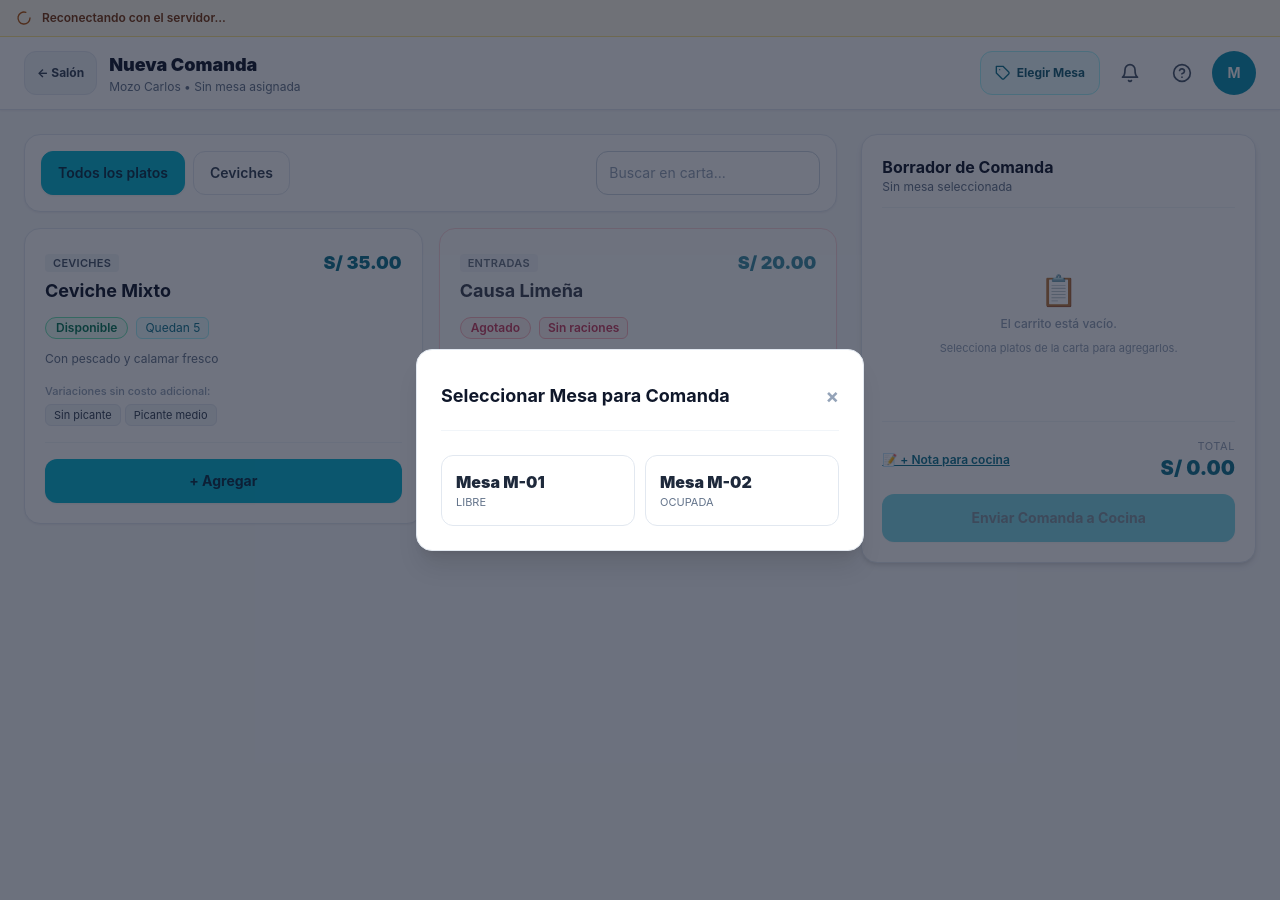
Test: Waiter Orders Flow (Spec 003 UI) › NewOrderPage: arms draft with variations, displays exact total S/ 35.00, and sends order idempotently
Earlier steps of the test are not shown.
Click the button "Mesa M-01 LIBRE" at (538, 491), box x1=441 y1=455 x2=635 y2=526
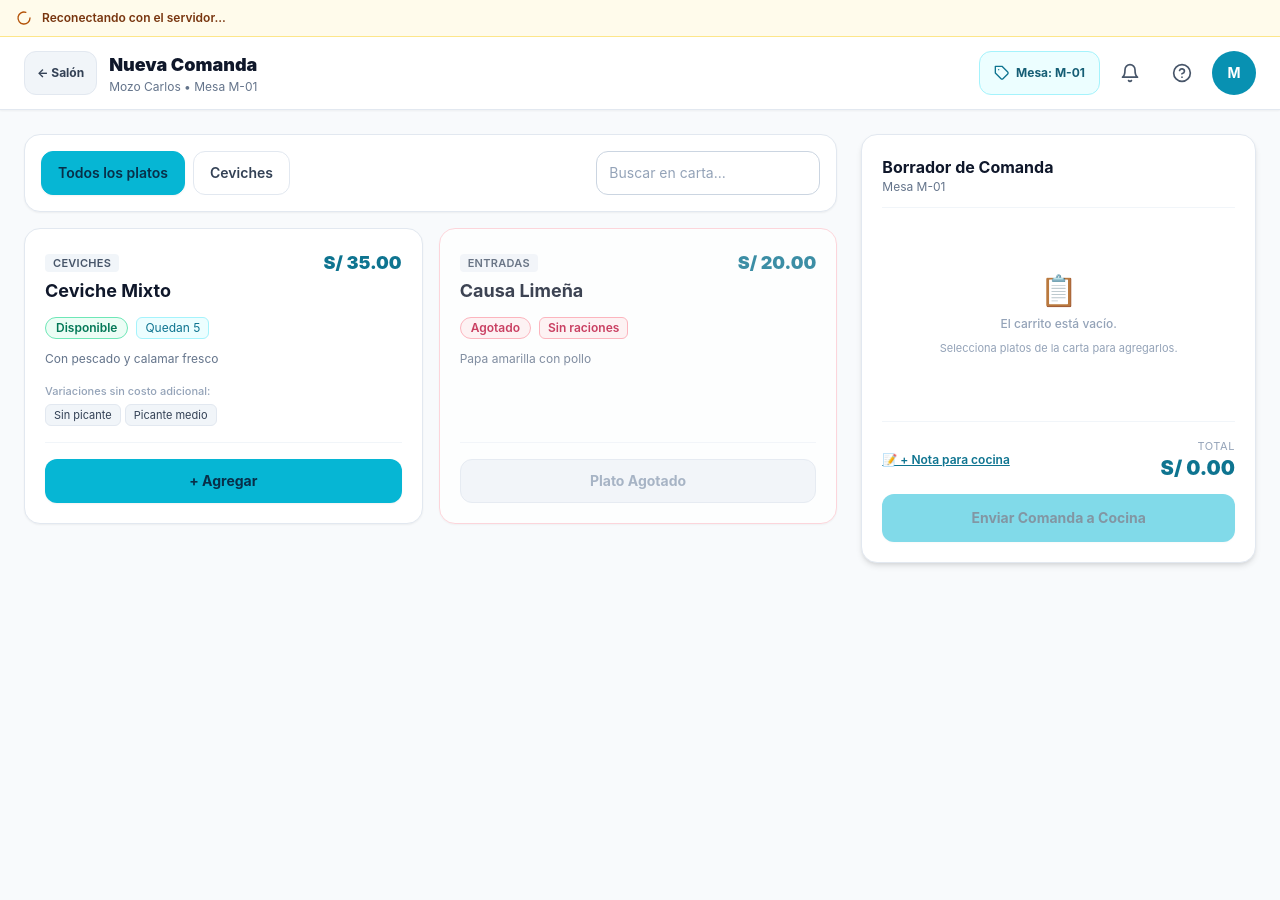
Expected: the text "Mesa: M-01" is shown, x1=1016 y1=65 x2=1085 y2=81
Click "+ Agregar" on Ceviche Mixto to open variation sheet
Click the button "+ Agregar" at (223, 481), box x1=45 y1=459 x2=402 y2=503
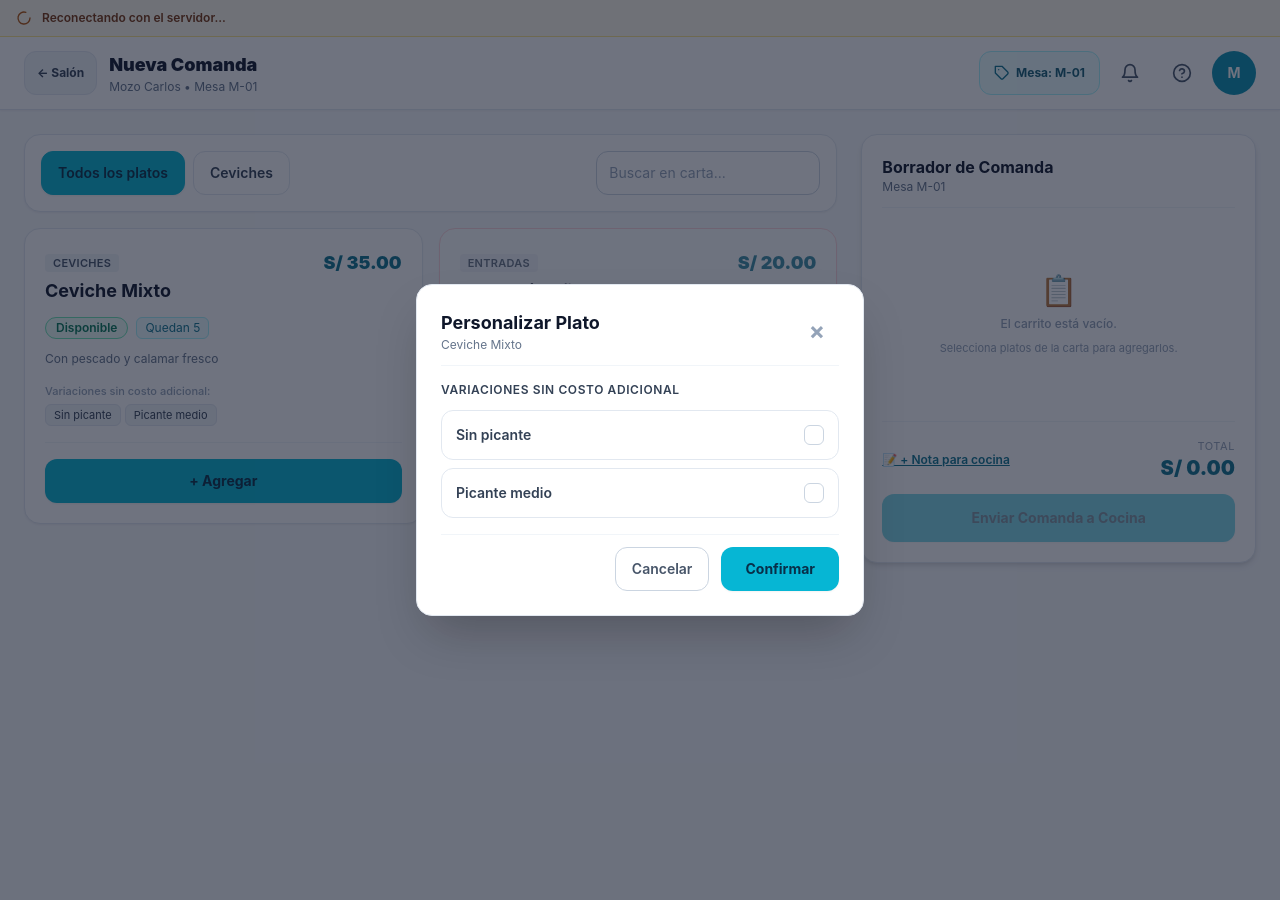
Expected: the heading "Personalizar Plato" is shown, x1=441 y1=309 x2=600 y2=337
Click variation button "Sin picante"
Click the button "Sin picante" at (494, 434), box x1=441 y1=410 x2=839 y2=460
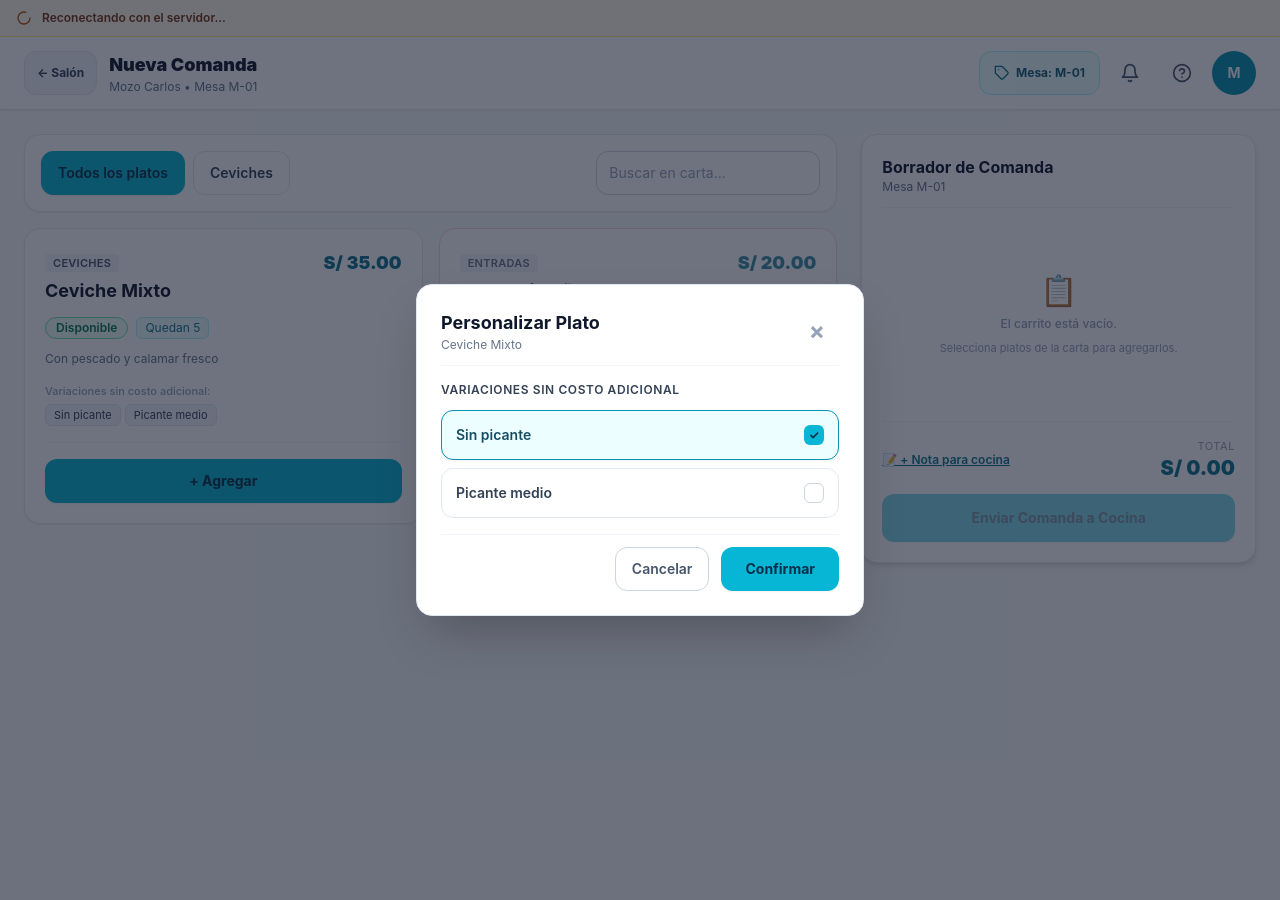
Confirm variation
Click the button "Confirmar" at (780, 569), box x1=721 y1=547 x2=839 y2=591
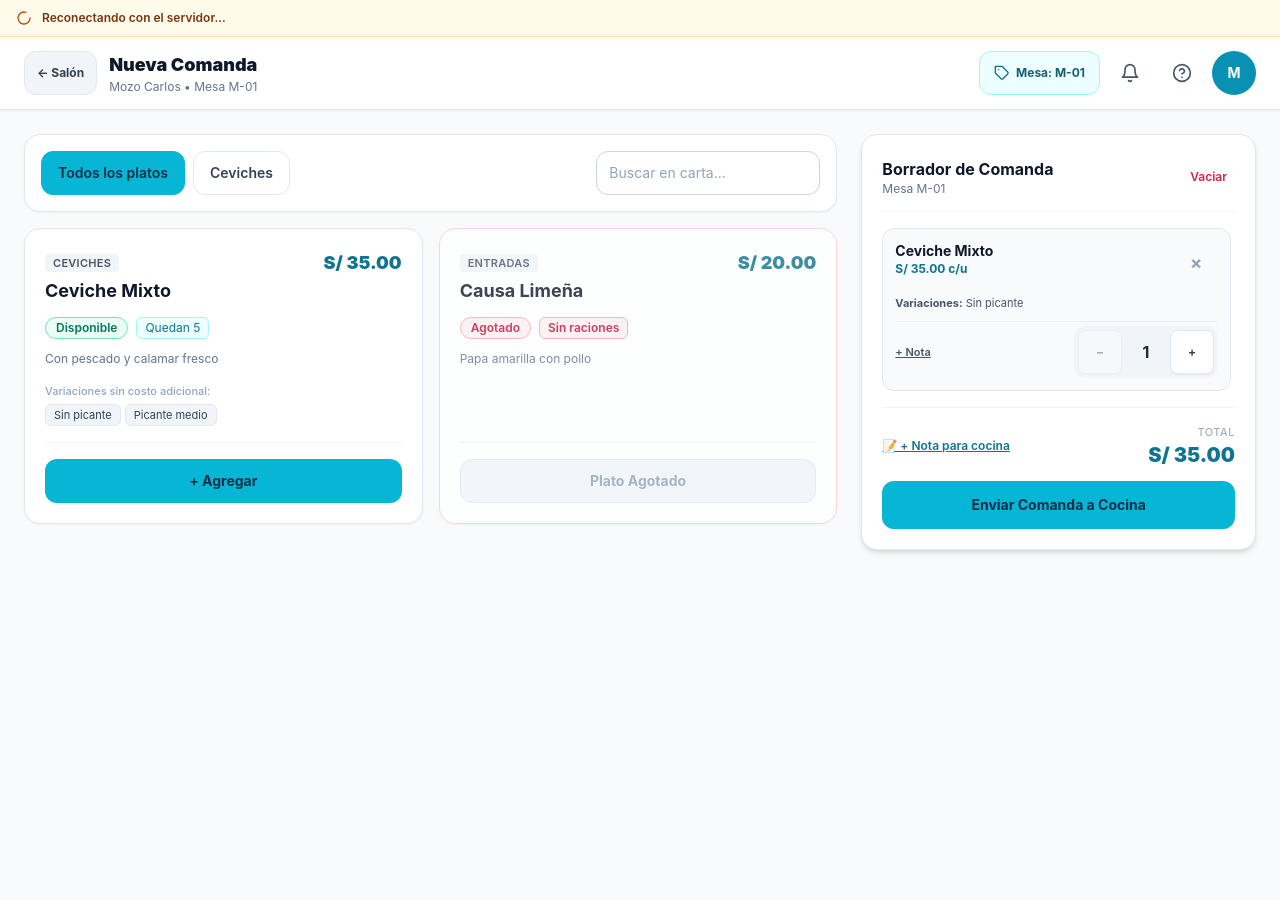
Expected: the text "Total" is shown, x1=1197 y1=425 x2=1235 y2=439
Expected: the button "Enviar Comanda a Cocina" is enabled
Click the button "Enviar Comanda a Cocina" at (1059, 504), box x1=882 y1=480 x2=1235 y2=528
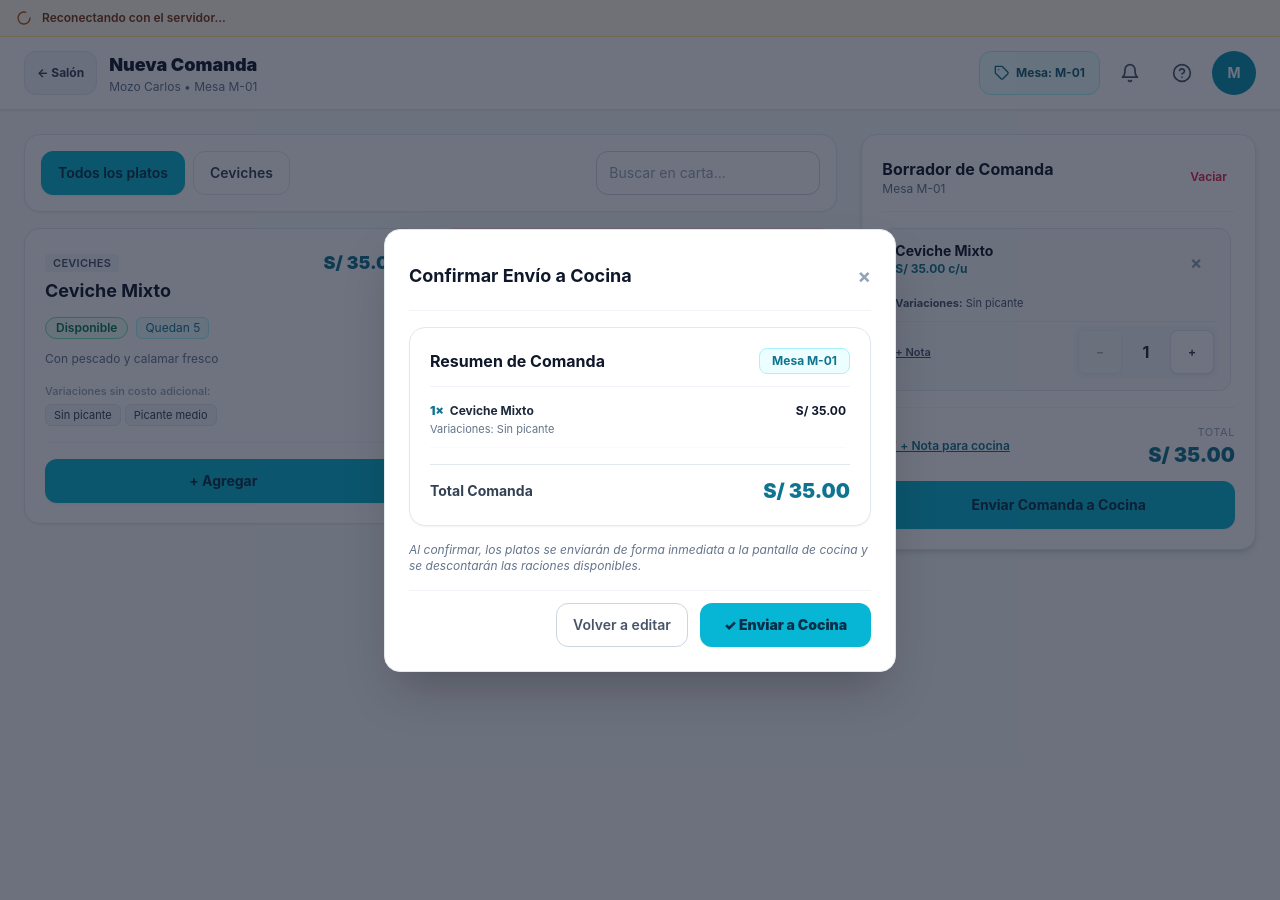
Expected: the heading "Confirmar Envío a Cocina" is shown, x1=409 y1=262 x2=632 y2=290
Click "✓ Enviar a Cocina"
Click the button "✓ Enviar a Cocina" at (785, 624), box x1=700 y1=602 x2=871 y2=646
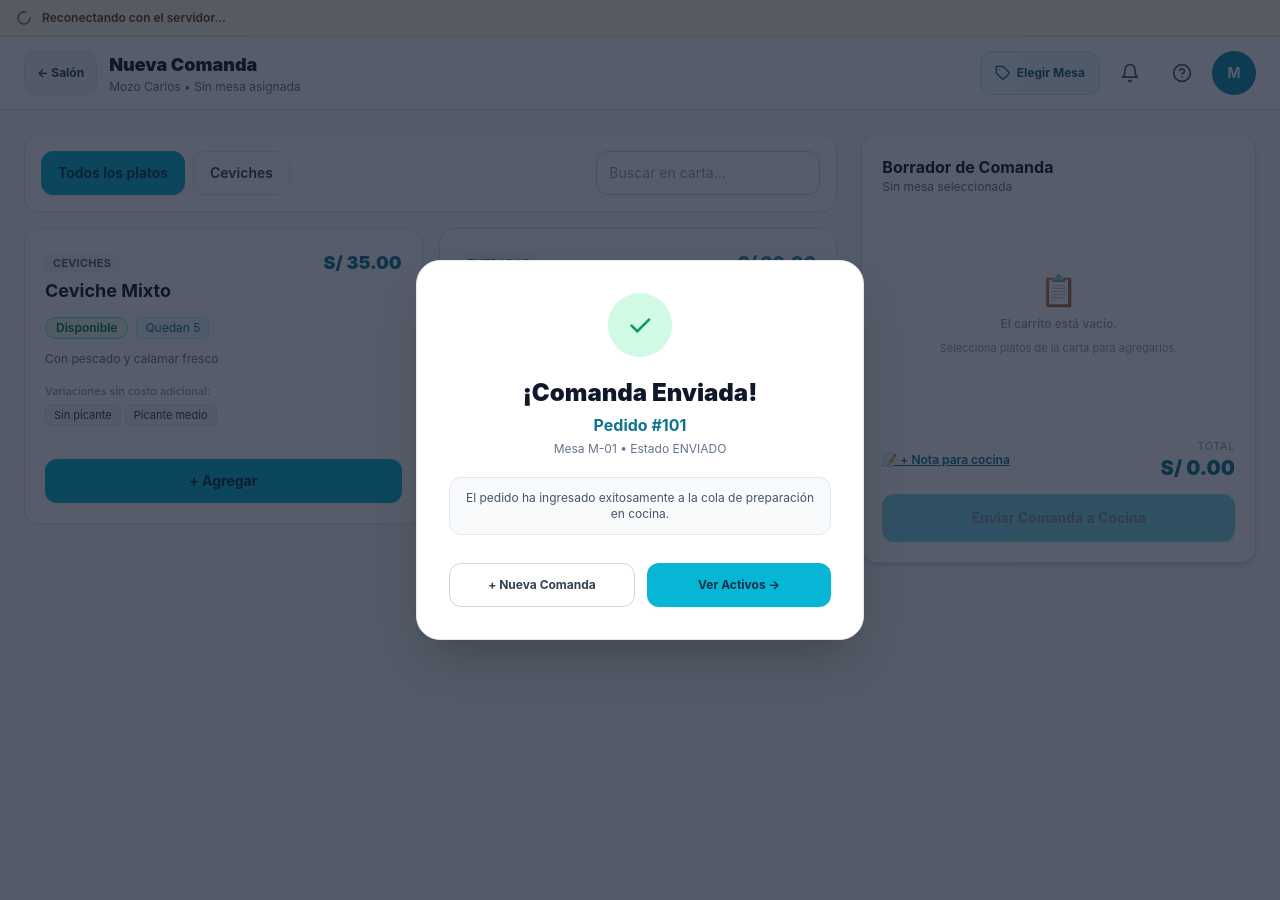
Expected: the heading "¡Comanda Enviada!" is shown, x1=523 y1=378 x2=757 y2=407
Expected: the text "Pedido #101" is shown, x1=594 y1=415 x2=686 y2=435
